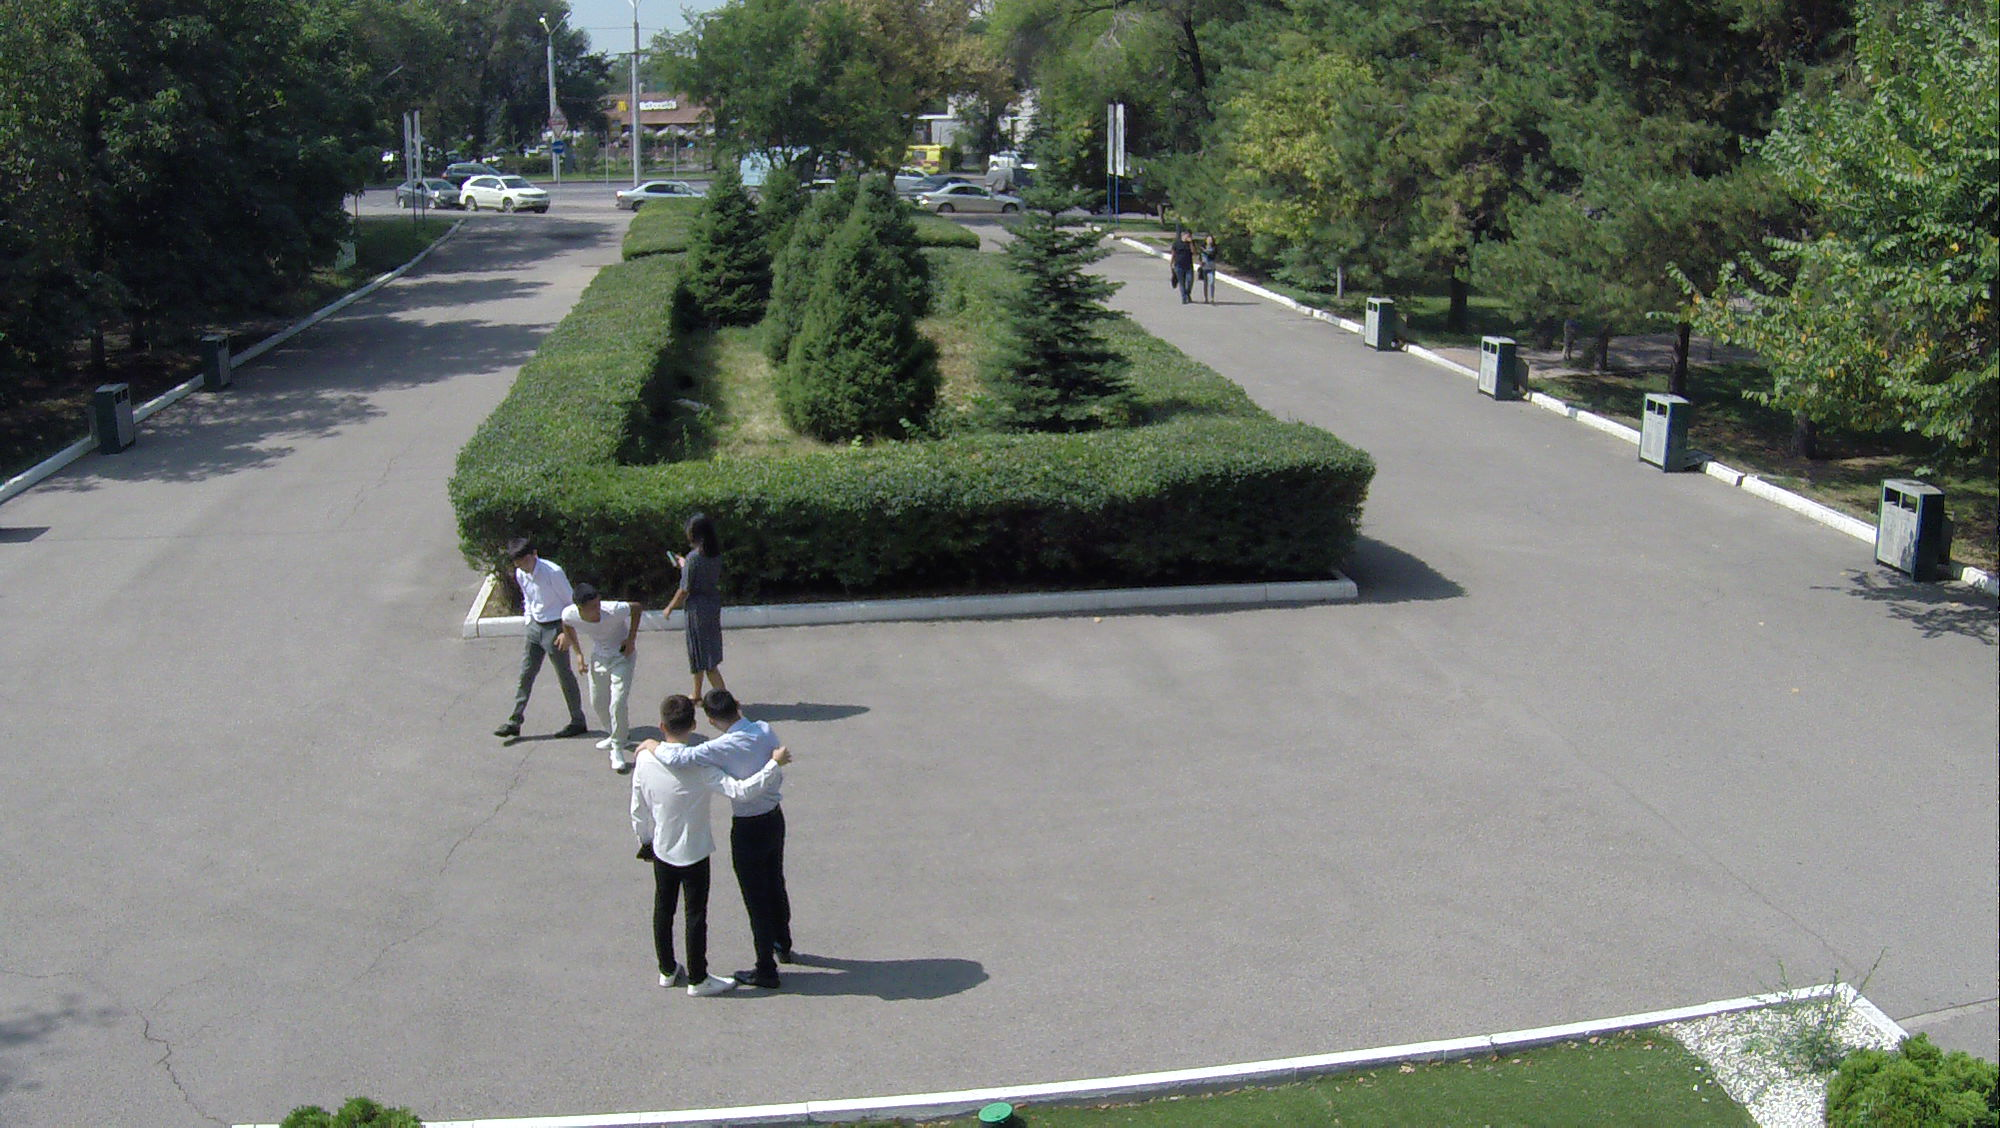person: (616, 691, 737, 1003), (478, 543, 589, 755), (720, 693, 787, 1008), (562, 580, 664, 776), (664, 512, 737, 726), (1197, 222, 1226, 305), (1168, 230, 1197, 314)
